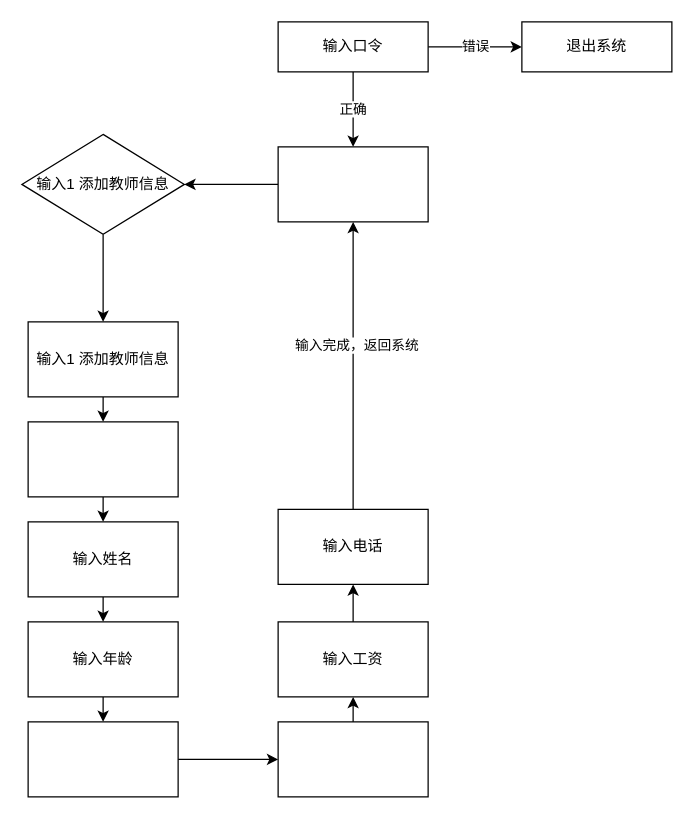
This 694x819 diagram has some shape labels left out. The centre of each missing label's shape, as x and y in pixels:
输入地址: pixel 352 759
输入编号: pixel 102 459
输入职位: pixel 102 759
进入教师管理系统: pixel 352 184
